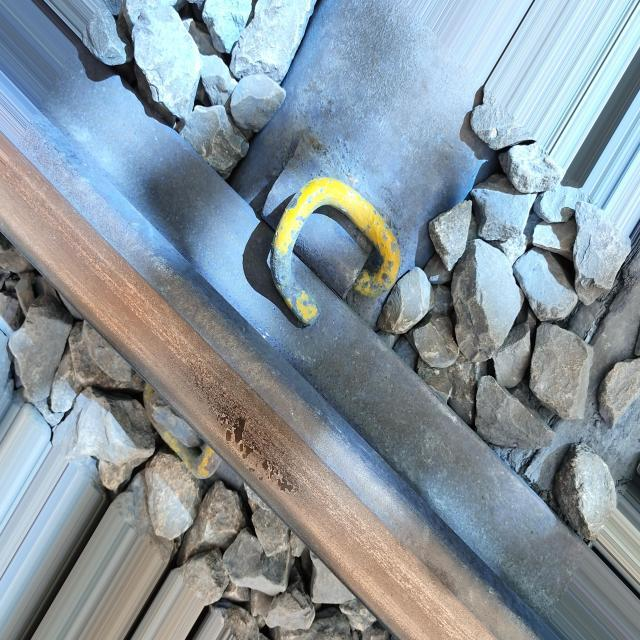Good Fasteners: (255, 140, 412, 338), (143, 383, 221, 479)
